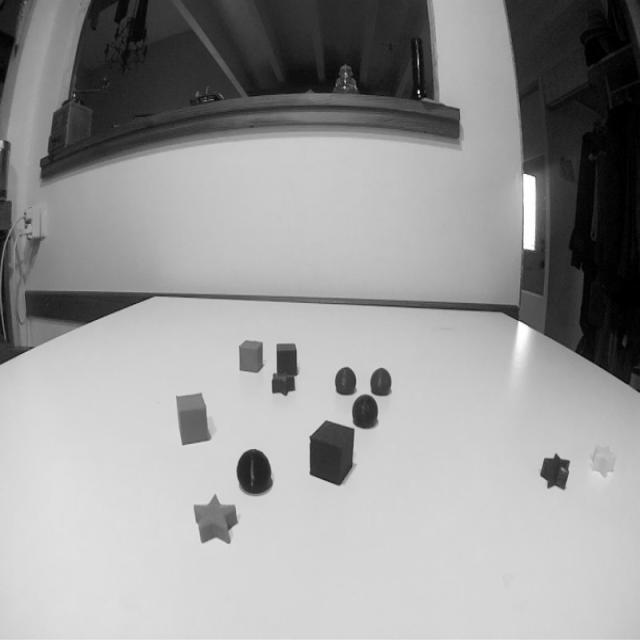ball: (236, 444, 274, 497), (352, 393, 380, 432), (333, 362, 358, 398), (369, 364, 393, 400)
cube: (307, 418, 356, 490), (173, 388, 210, 450), (235, 336, 262, 374), (274, 339, 300, 378)
star: (190, 493, 242, 548), (535, 451, 576, 494), (587, 438, 622, 481), (268, 370, 300, 400)
